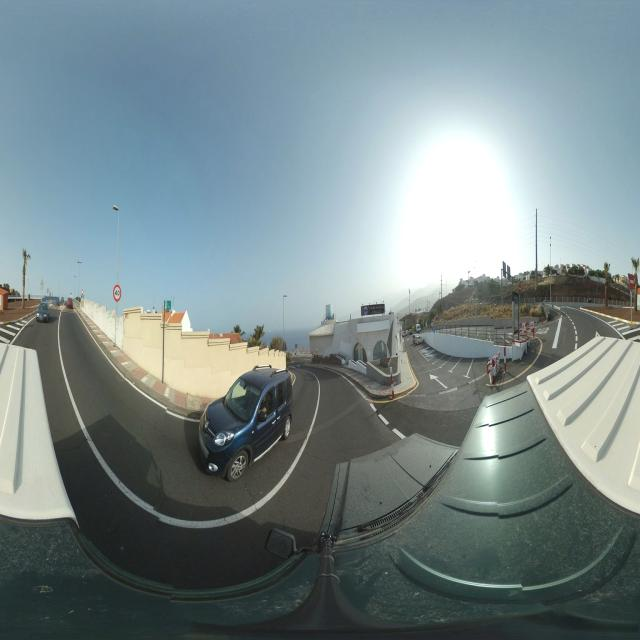car: (198, 374, 294, 481), (36, 301, 50, 323), (66, 298, 74, 310)
